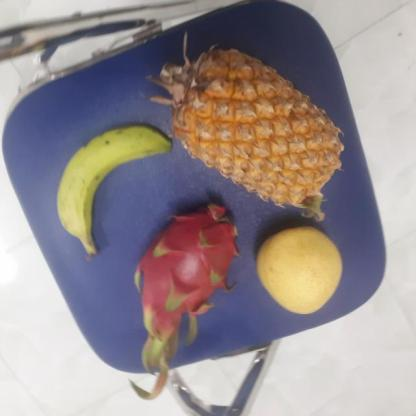banana: (52, 122, 171, 251)
pear: (254, 226, 343, 314)
pineapple: (160, 46, 334, 209)
pitaya: (138, 201, 240, 333)
